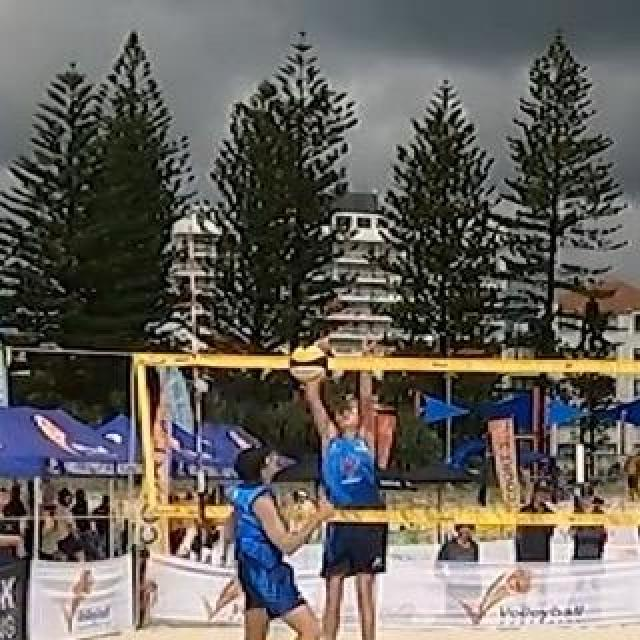volleyball: (291, 348, 327, 386)
